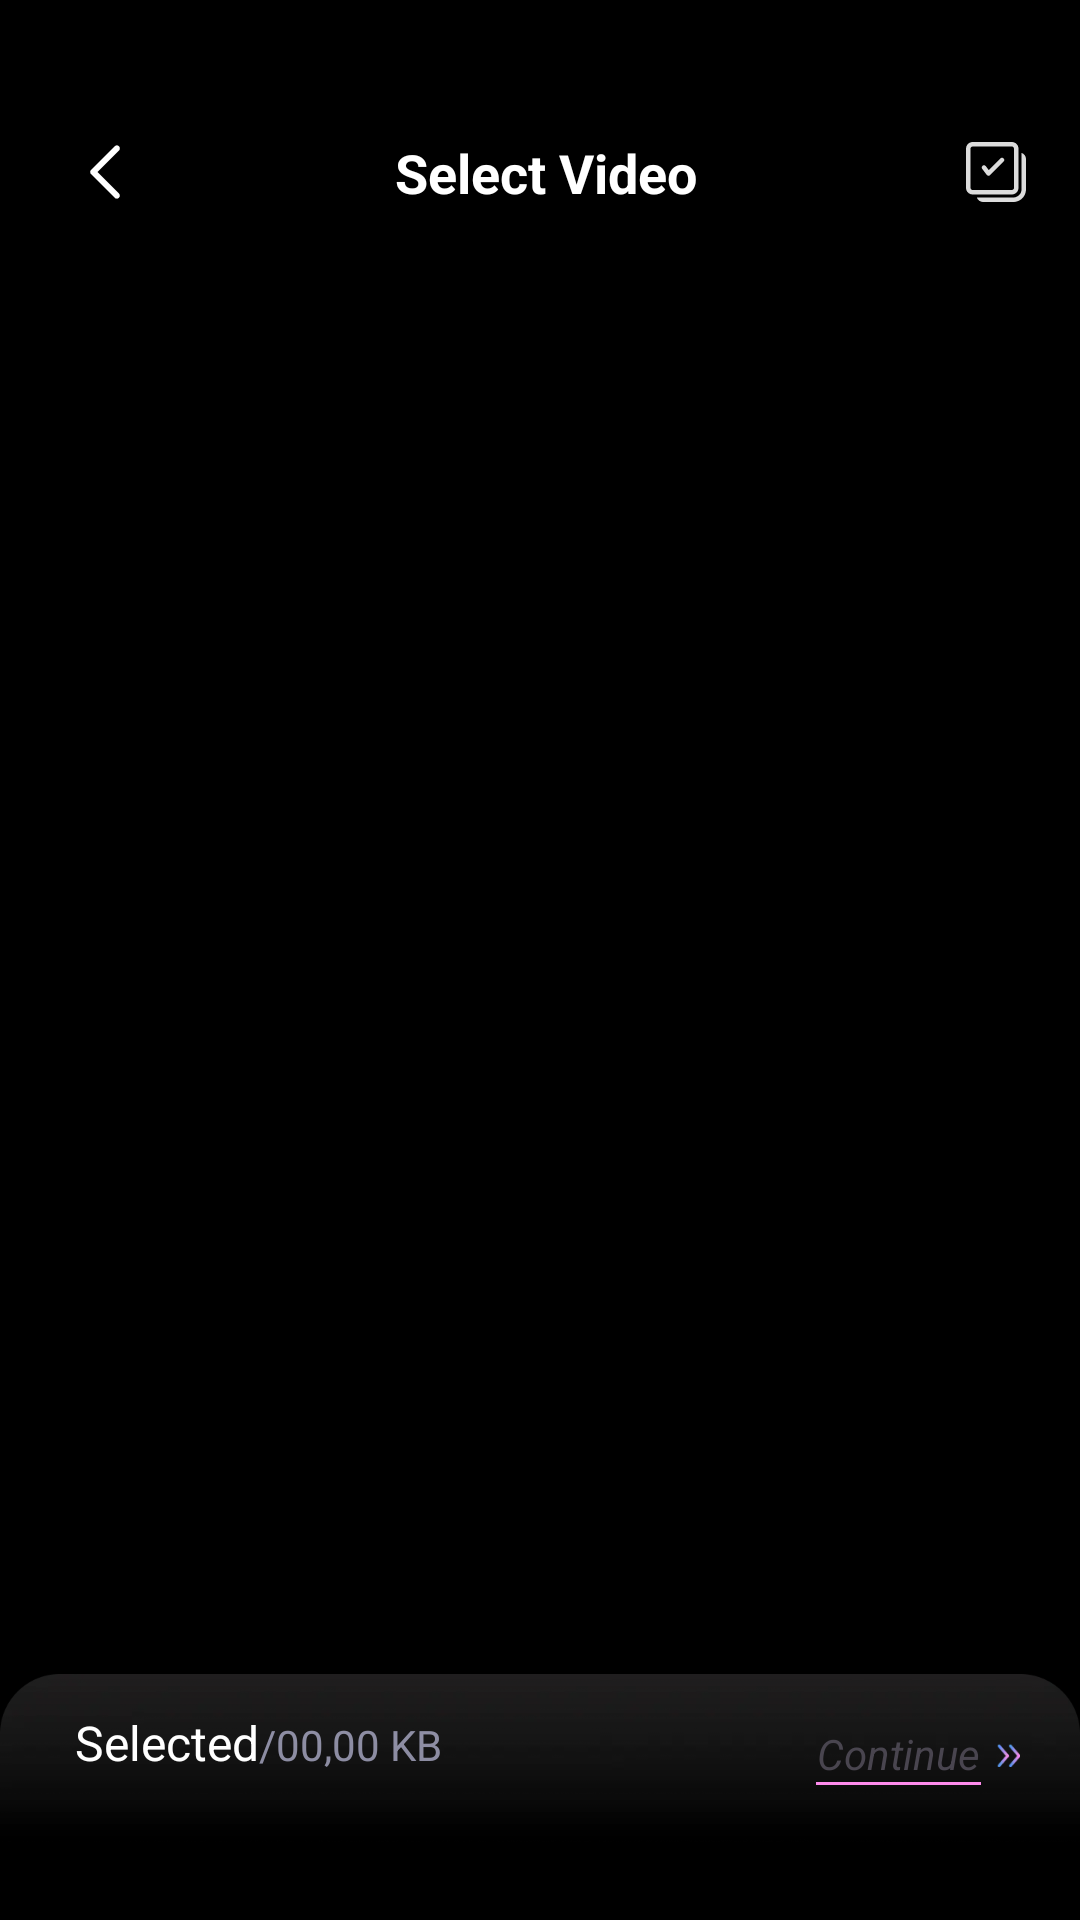

Screen size 1080px×1920px. Icon name, then its box in pixels as {"x1": x1, "y1": y1, "x2": x2, "y2": y2}:
back: {"x1": 90, "y1": 145, "x2": 120, "y2": 199}
check all: {"x1": 966, "y1": 142, "x2": 1026, "y2": 202}
